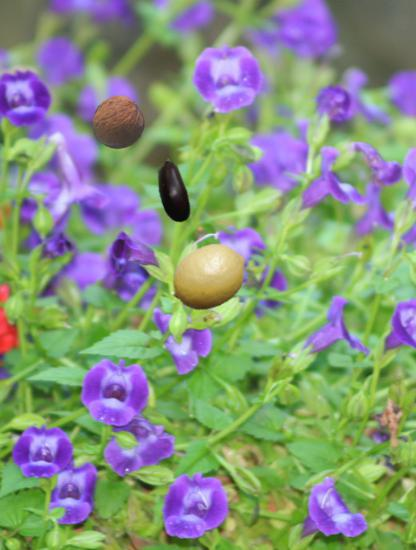Eggplant: (140, 159, 206, 225)
Lemon: (169, 237, 249, 317)
Walnut: (91, 96, 146, 151)
